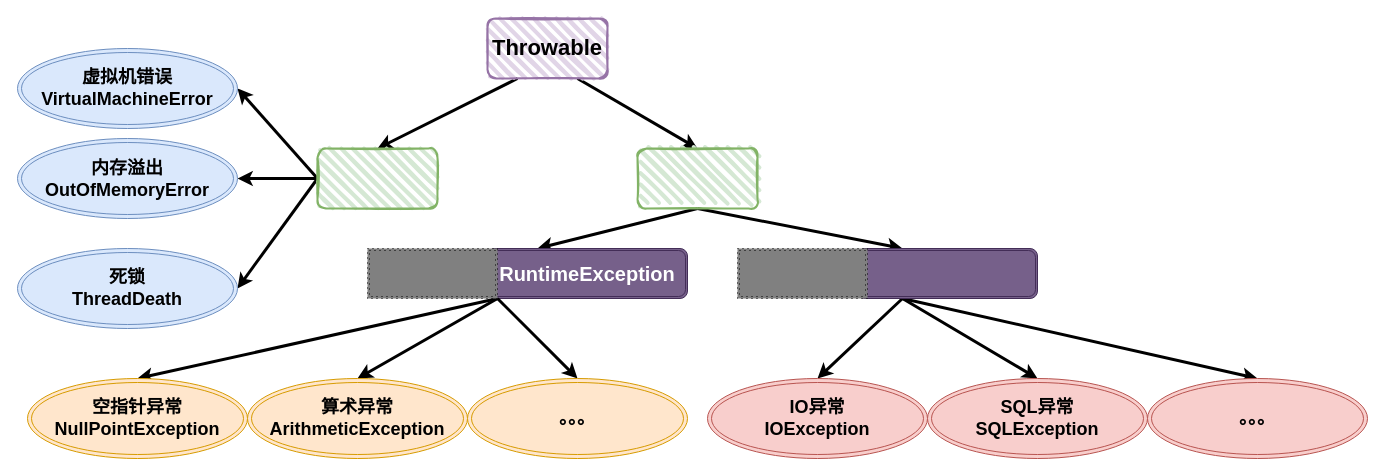
Image size: 1385x476. Some labels were removed from this diagram. The centre of each missing label's shape, as x and y in pixels:
CheckException: the point at 947,273
Error: the point at 377,178
Exception: the point at 697,178
受检异常: the point at 802,273
非受检异常: the point at 432,273
